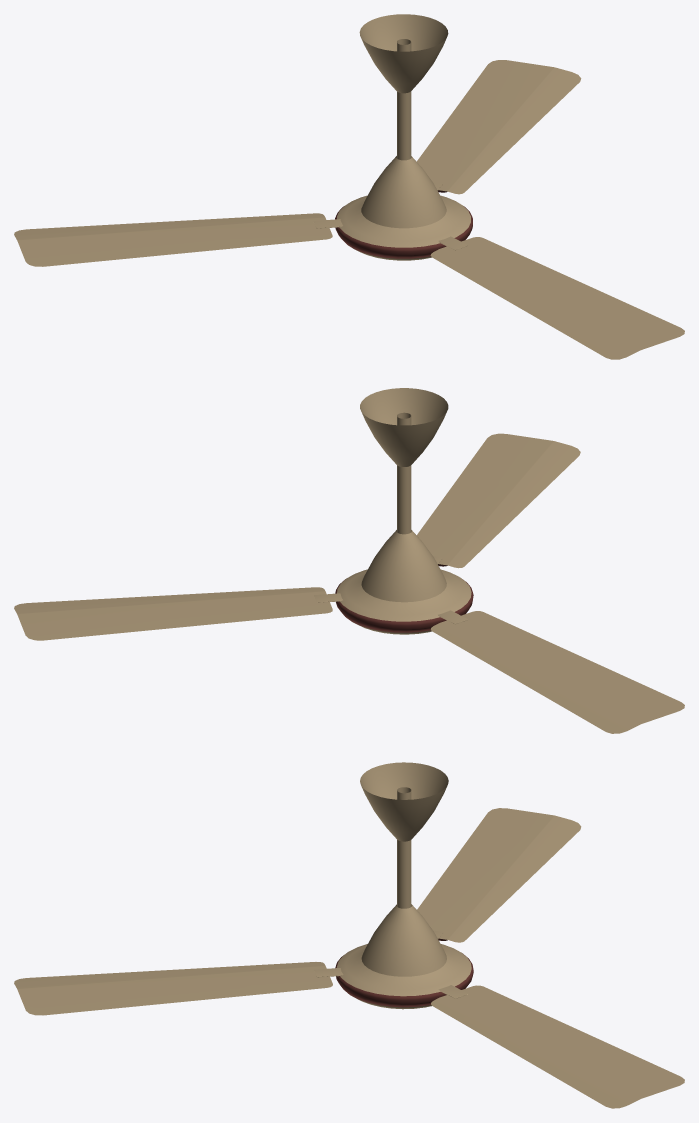
The model's file is fan.glb.
The picture shows the model from 3 angles, top to bottom: view 1: azimuth 30°, elevation 25°; view 2: azimuth 150°, elevation 25°; view 3: azimuth 270°, elevation 25°; orthographic projection.
Parts seen in each view (by area): view 1: Cube.003; view 2: Cube.003; view 3: Cube.003.
Part boxes in pixels (x1,y1,x2,y2): Cube.003: (14,14,684,359); Cube.003: (14,388,684,733); Cube.003: (14,762,684,1108).
Size of the model in its own units: 2 by 0.6566 by 1.91.
